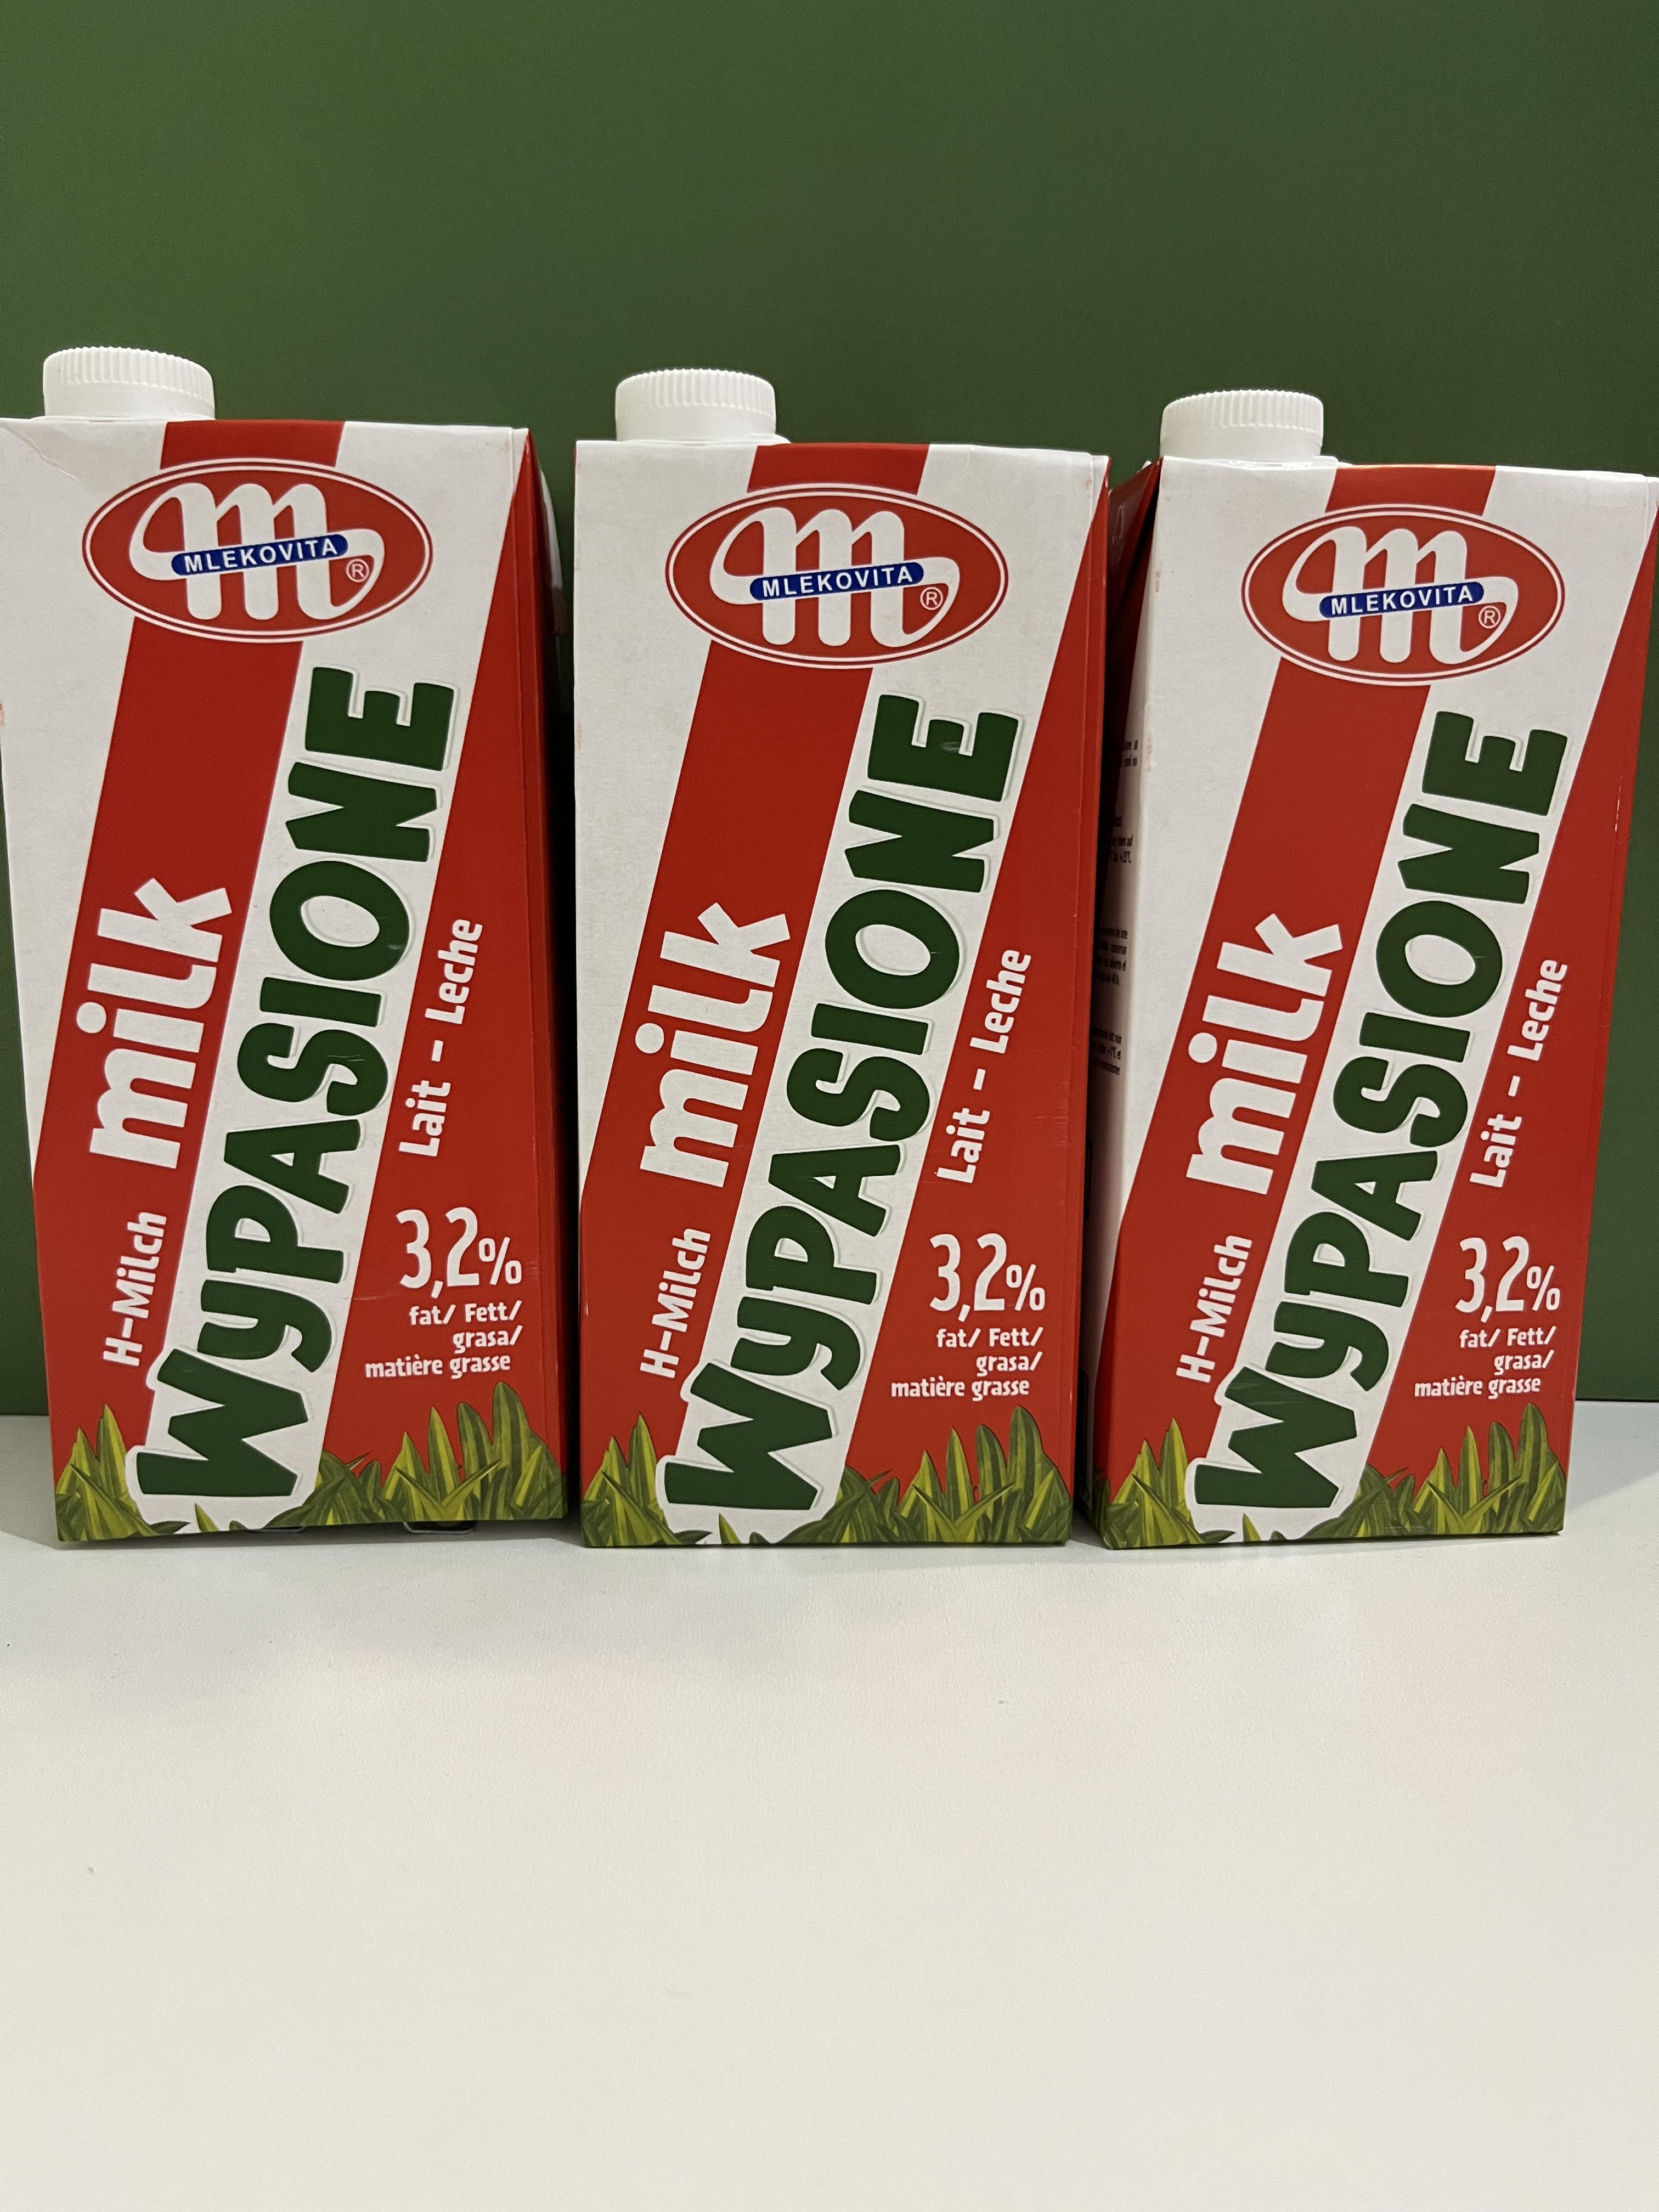Milk: (7, 421, 580, 1533), (572, 434, 1080, 1547), (1138, 449, 1588, 1531)
